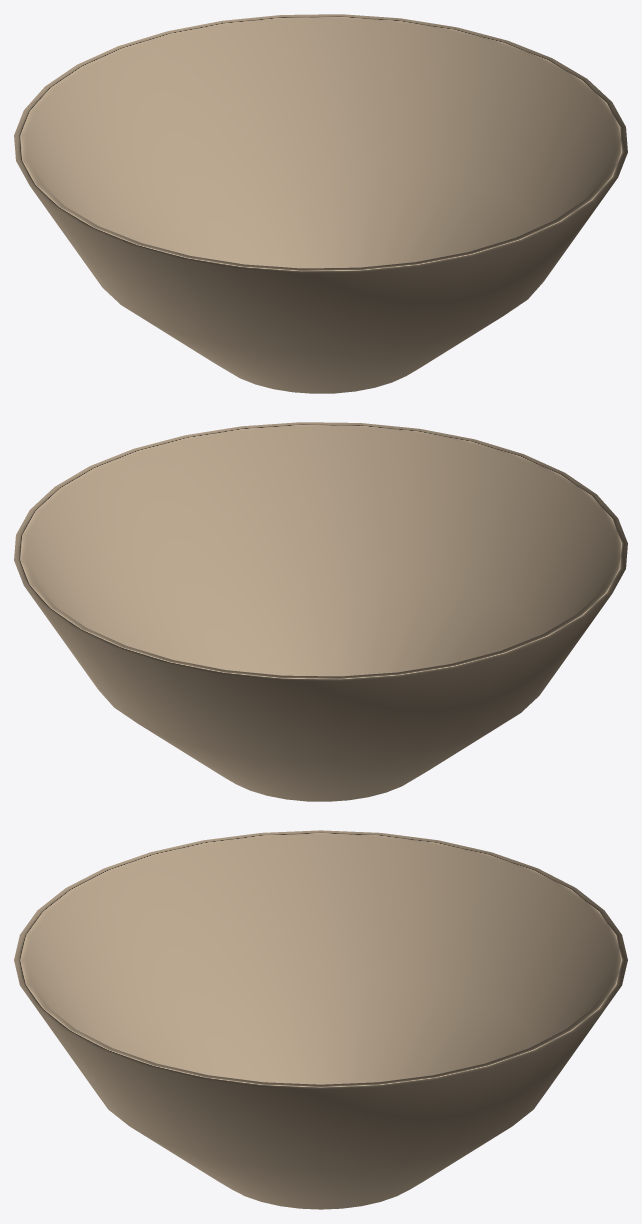
File: CAL-BWL-std.glb
3 renders of one model, top to bottom at view 1: azimuth 30°, elevation 25°; view 2: azimuth 150°, elevation 25°; view 3: azimuth 270°, elevation 25°, orthographic.
Parts seen in each view (by area): view 1: CAL-BWL-std; view 2: CAL-BWL-std; view 3: CAL-BWL-std.
Part boxes in pixels (box(x1,y1,x2,y2)): CAL-BWL-std: box(14, 14, 627, 393); CAL-BWL-std: box(14, 422, 627, 801); CAL-BWL-std: box(14, 830, 627, 1209).
Size of the model in its own units: 0.3 by 0.11 by 0.3.
